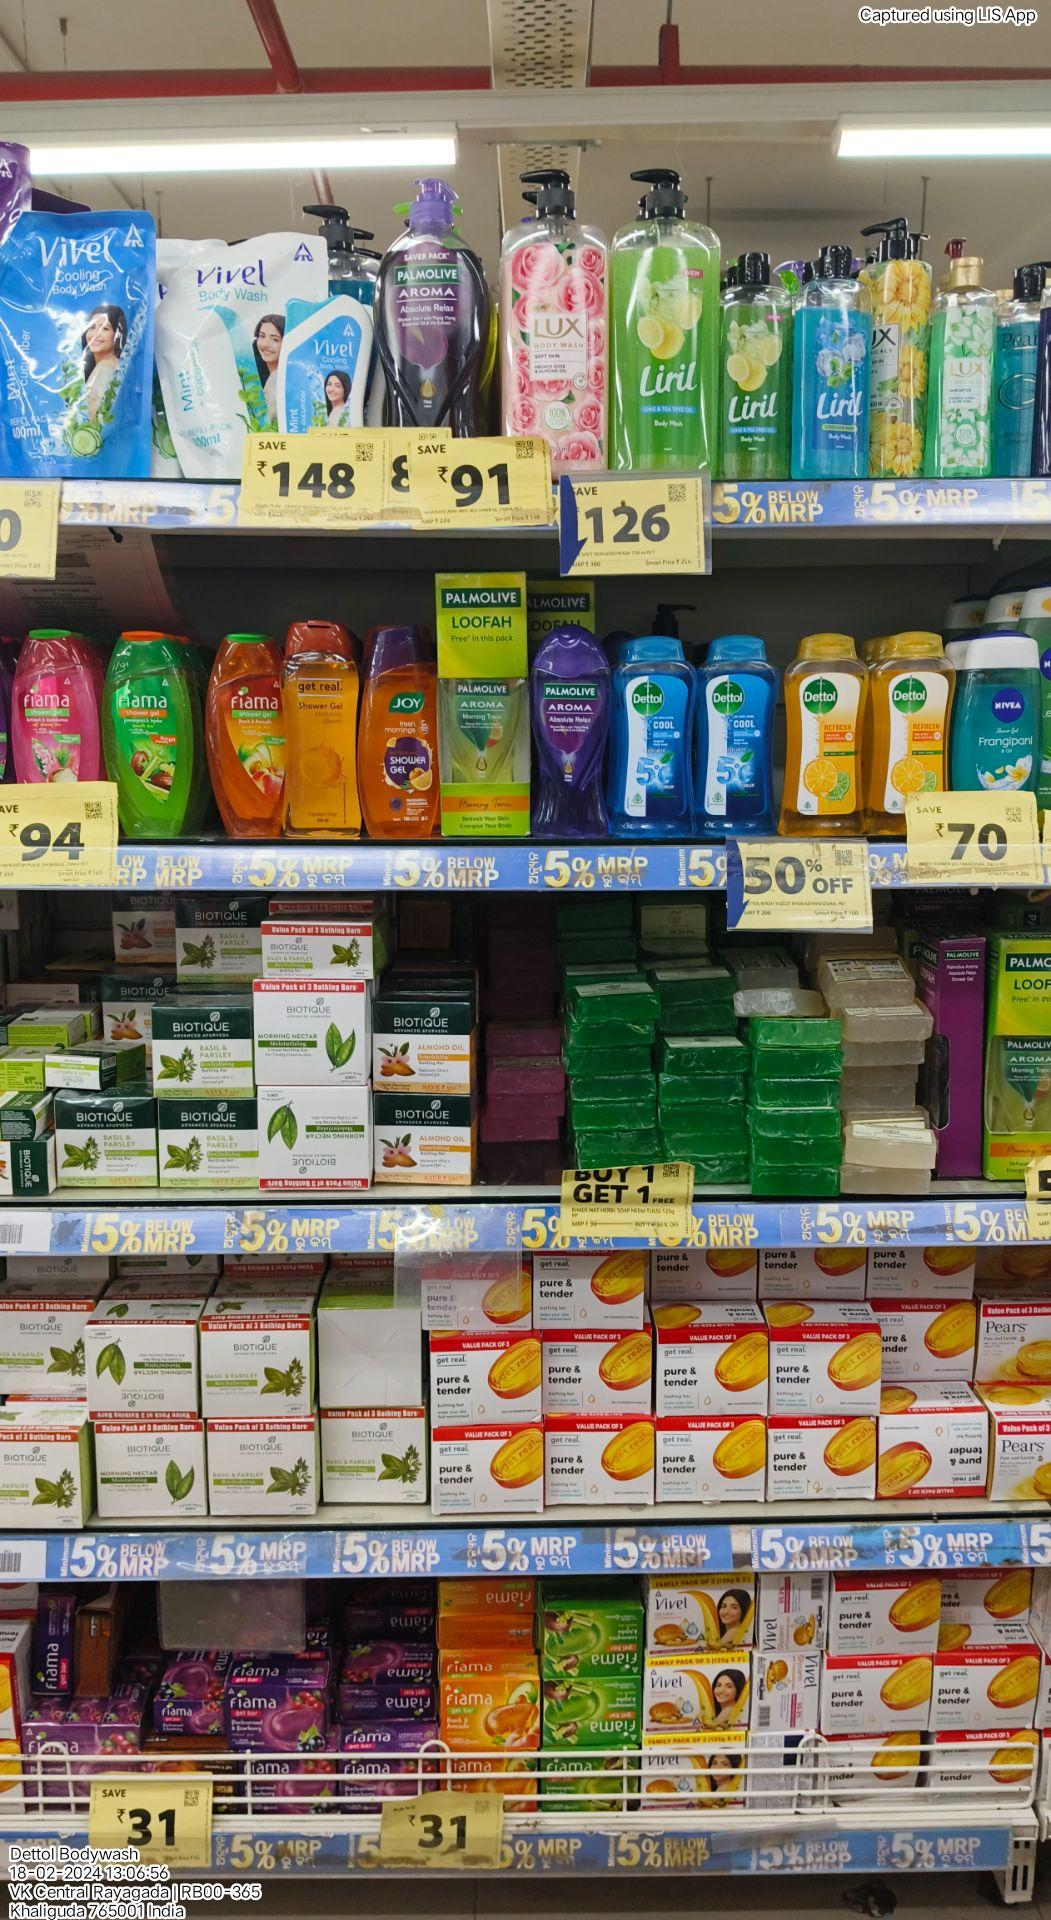Dettol_Bodywash_Cool: (612, 638, 692, 840), (692, 634, 771, 837)
Dettol_Bodywash_Refresh: (778, 637, 862, 835), (870, 629, 946, 844)
Fiama_Shower_Gel_Lemongrass_and_Jojoba_250ML: (111, 629, 188, 836)
Fiama_Shower_Gel_Patchouli_and_Macadamia_250ML: (9, 626, 102, 781)
Fiama_Shower_Gel_Peach_and_Avocado_250ML: (211, 635, 282, 840)
Get_Real_Shower_Gel_Moisturising_Glycerin_300ML: (286, 621, 359, 840)
Joy_Shower_Gel_Mandarin_and_Lemongrass_250ML: (366, 620, 436, 835)
Liril_Cooling_Mint_Body_Wash_250ML: (792, 250, 867, 480)
Liril_Lime_and_Tea_Tree_Oil_Body_Wash_250ML: (721, 246, 787, 480)
Lux_Body_Wash_Skin_Detox_Freesia_Scent_and_Alove_Vera_245ML: (931, 256, 986, 480)
Nivea_Shower_Gel_Frangipani_and_Oil_250ML: (953, 630, 1038, 792)
Palmolive_Aroma_Relax_250ML: (528, 625, 606, 840)
